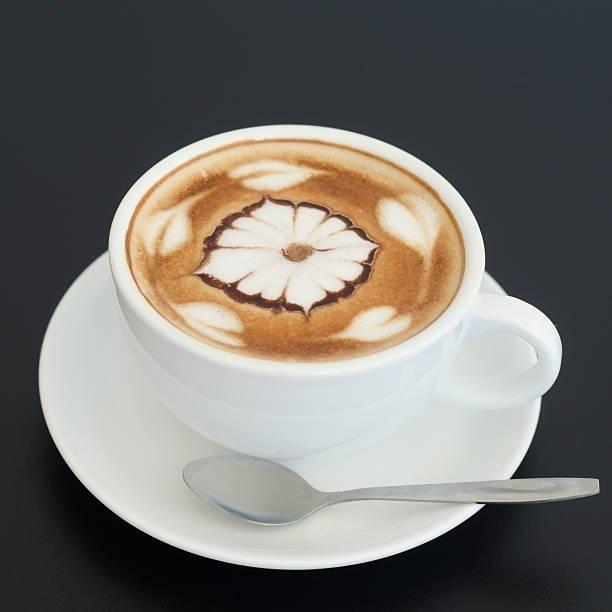cup-handle: (106, 122, 561, 462)
